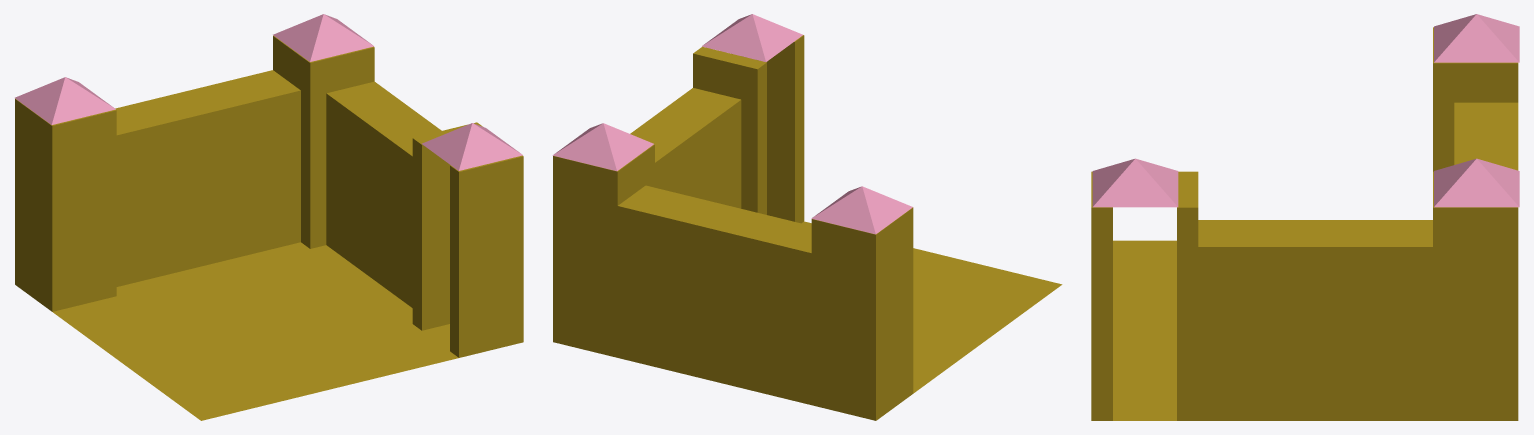
The model's file is castilo.obj.
The picture shows the model from 3 angles, left to right: view 1: azimuth 30°, elevation 25°; view 2: azimuth 150°, elevation 25°; view 3: azimuth 270°, elevation 25°; orthographic projection. The views are drawn at different scales.
Visible parts, largest first — view 1: Plane001, Pyramid004, Pyramid002, Pyramid001; view 2: Plane001, Pyramid001, Pyramid002, Pyramid004; view 3: Plane001, Pyramid004, Pyramid002, Pyramid001.
Part boxes in pixels (left/top/right/bottom): Plane001: left=15, top=35, right=523, bottom=420; Pyramid004: left=422, top=123, right=522, bottom=170; Pyramid002: left=273, top=14, right=374, bottom=61; Pyramid001: left=15, top=77, right=115, bottom=124; Plane001: left=553, top=35, right=1062, bottom=420; Pyramid001: left=811, top=186, right=912, bottom=234; Pyramid002: left=552, top=123, right=653, bottom=171; Pyramid004: left=702, top=14, right=802, bottom=61; Plane001: left=1091, top=27, right=1518, bottom=420; Pyramid004: left=1092, top=158, right=1178, bottom=207; Pyramid002: left=1434, top=158, right=1519, bottom=207; Pyramid001: left=1434, top=14, right=1519, bottom=62.
Bounding box in the file's own units: 60.1 × 37.91 × 60.14.
